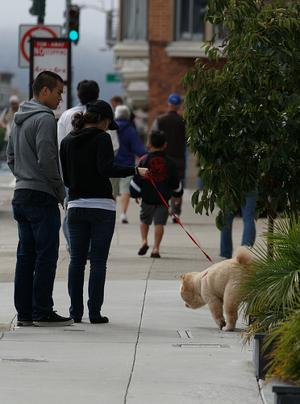person: (60, 102, 152, 324)
